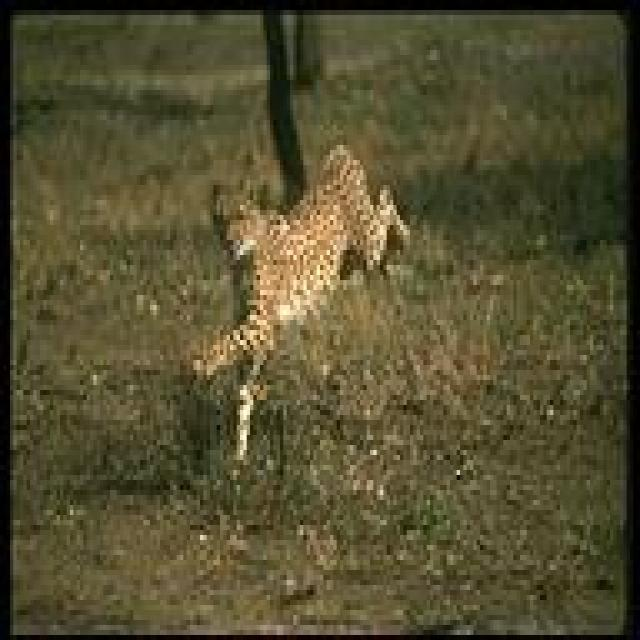Leopard: (189, 135, 410, 459)
